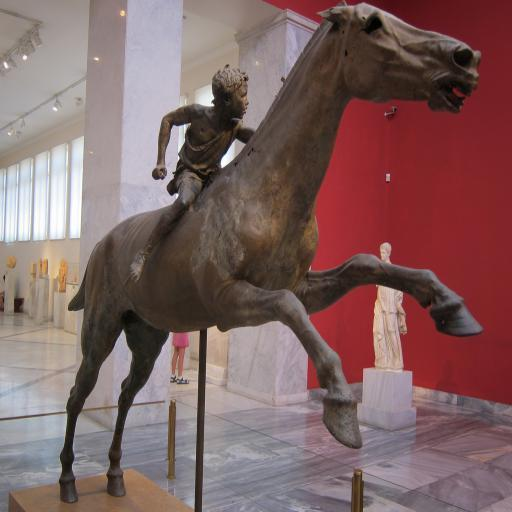horse: (57, 0, 485, 506)
